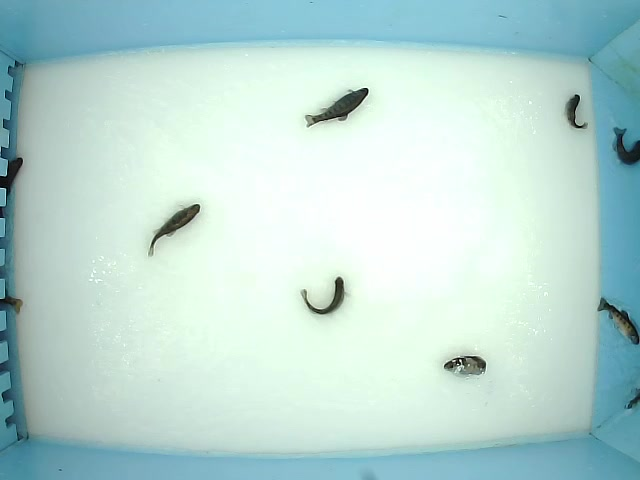fish: (147, 202, 201, 258), (304, 87, 370, 129), (596, 296, 640, 347), (298, 276, 352, 316), (611, 125, 640, 167), (443, 354, 488, 378), (563, 94, 589, 131)
